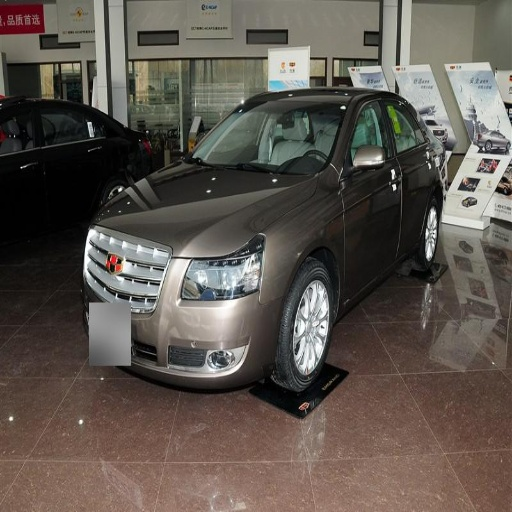front_bumper: (85, 236, 280, 389)
front_glass: (191, 99, 344, 175)
front_left_door: (341, 95, 400, 293)
